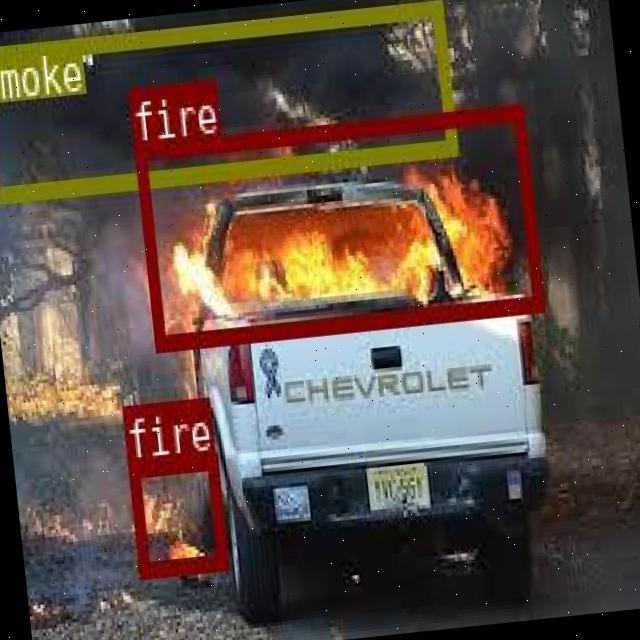fire: (132, 102, 542, 350), (127, 451, 226, 575)
smoke: (0, 0, 456, 202)
